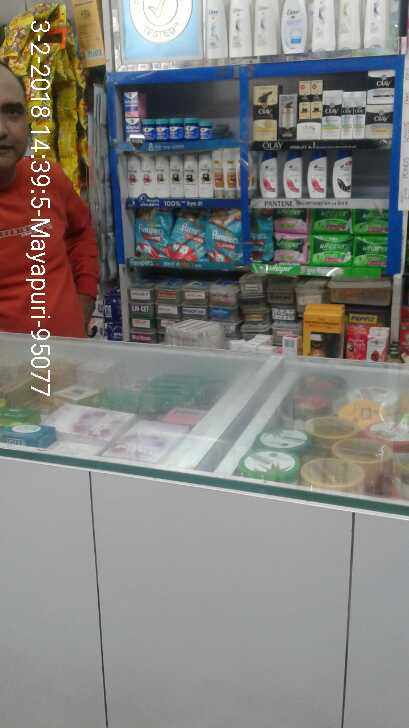vicks: (123, 84, 218, 144)
